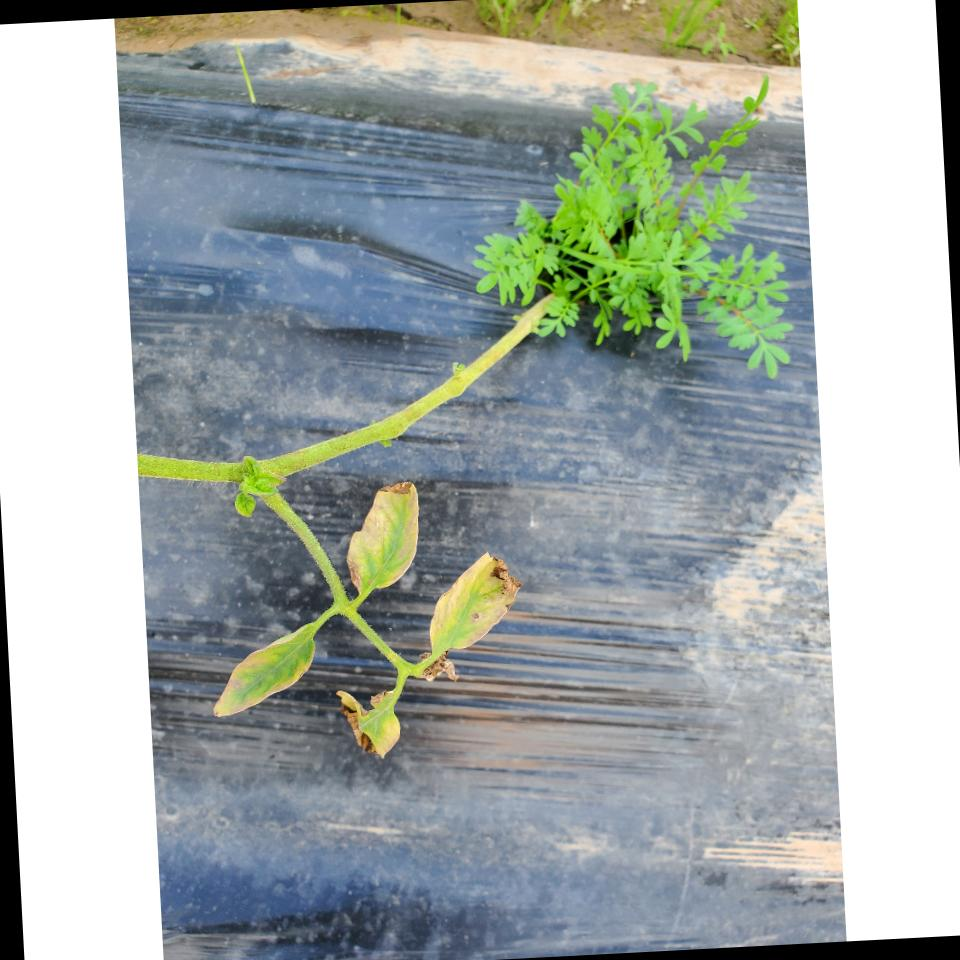tomato_yellow_leaf_curl_virus: (205, 627, 322, 716), (424, 547, 519, 654), (342, 480, 424, 596), (339, 678, 404, 764)
